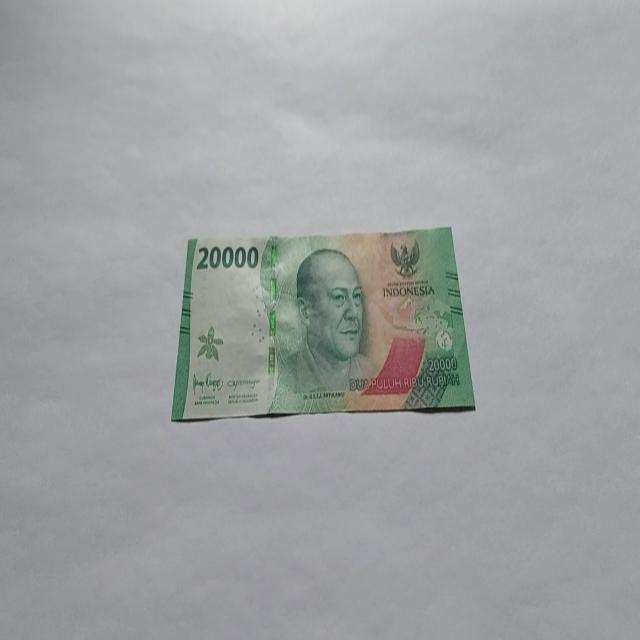dua puluh ribu rupiah: (170, 225, 476, 422)
